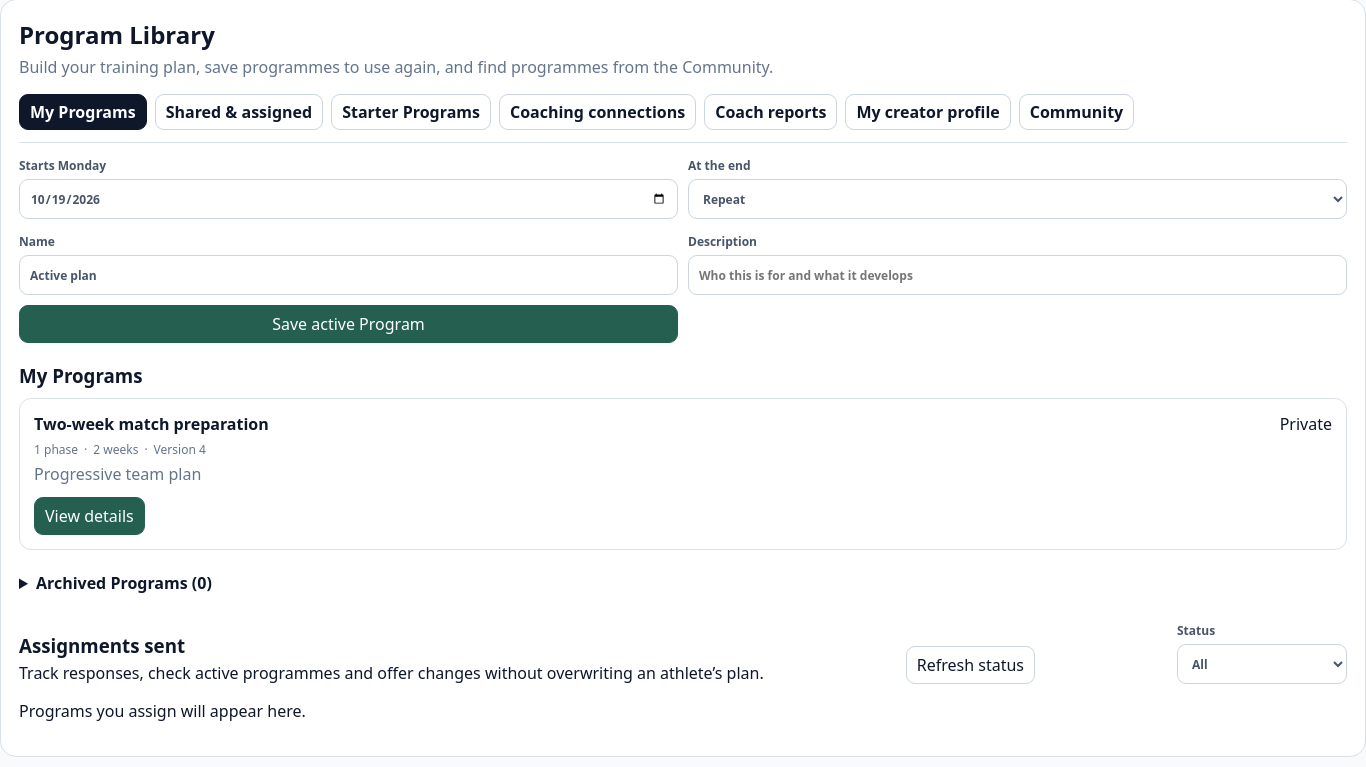
Test: direct client assignments › assigns a frozen programme to a consented client without a team
Expected: the heading "Two-week match preparation" is shown, [34, 413, 269, 435]
Click the button "View details". click: (89, 516)
box: [34, 497, 145, 535]
(page scrolled)
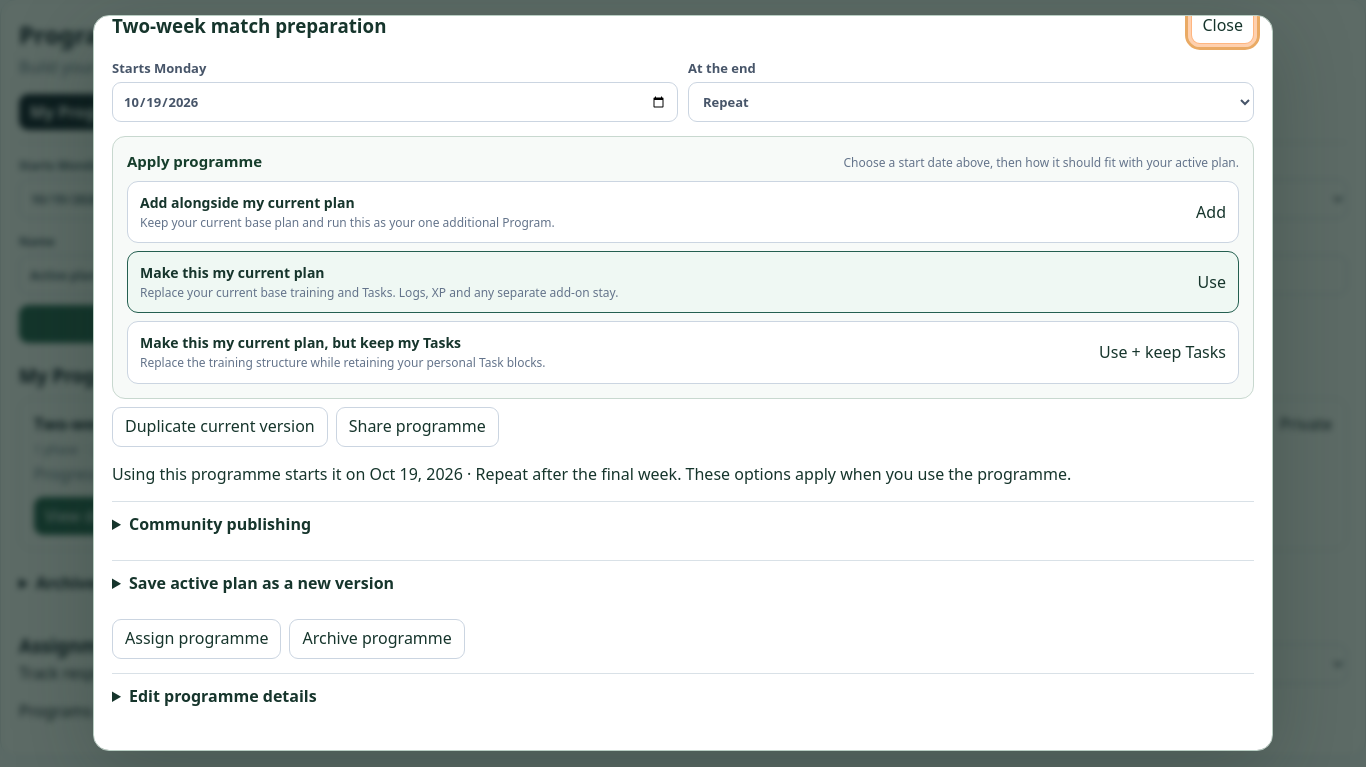
Click the button "Assign programme". click: (197, 639)
box: [112, 619, 281, 659]
(page scrolled)
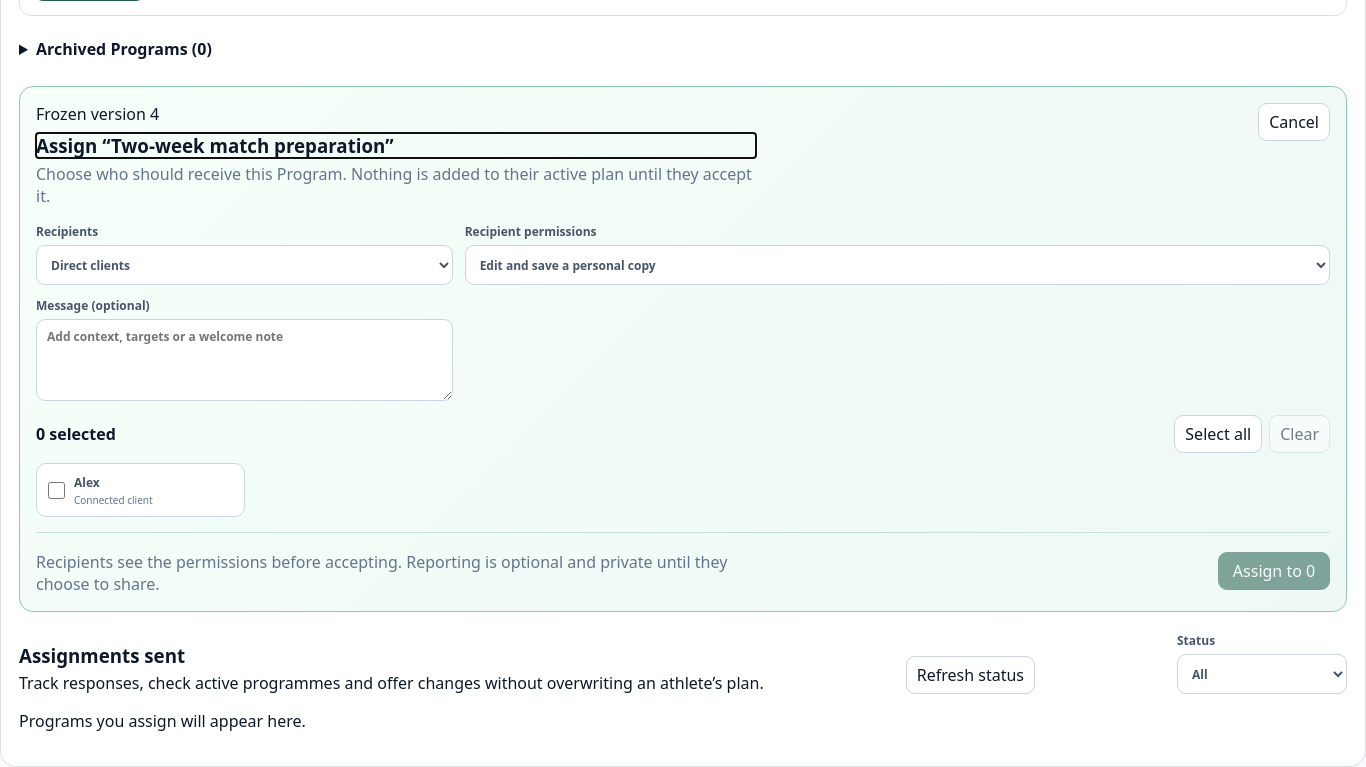
Click the checkbox labelled "Alex Connected client". click: (56, 490)
box: [48, 482, 65, 498]
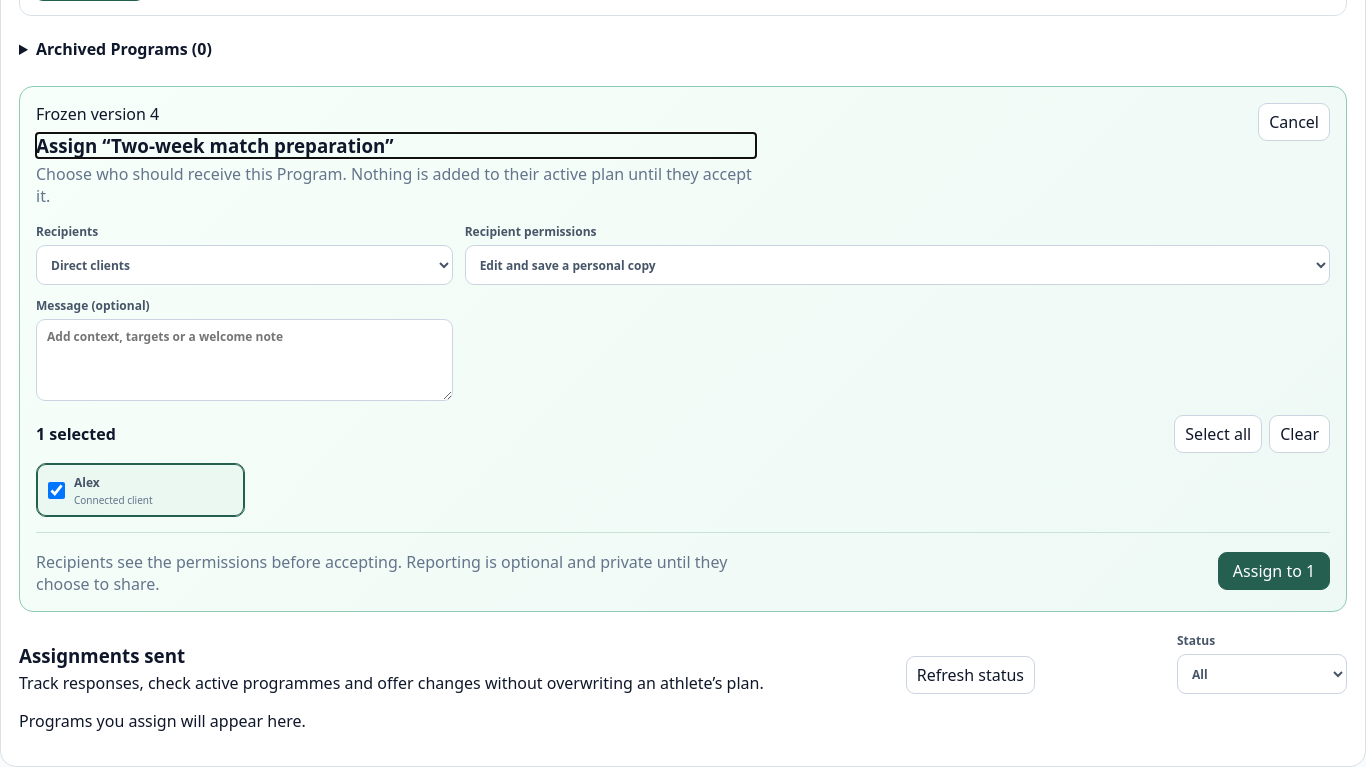
Select "Follow as supplied" in the dropdown labelled "Recipient permissions". click: (897, 265)
box: [465, 245, 1330, 285]
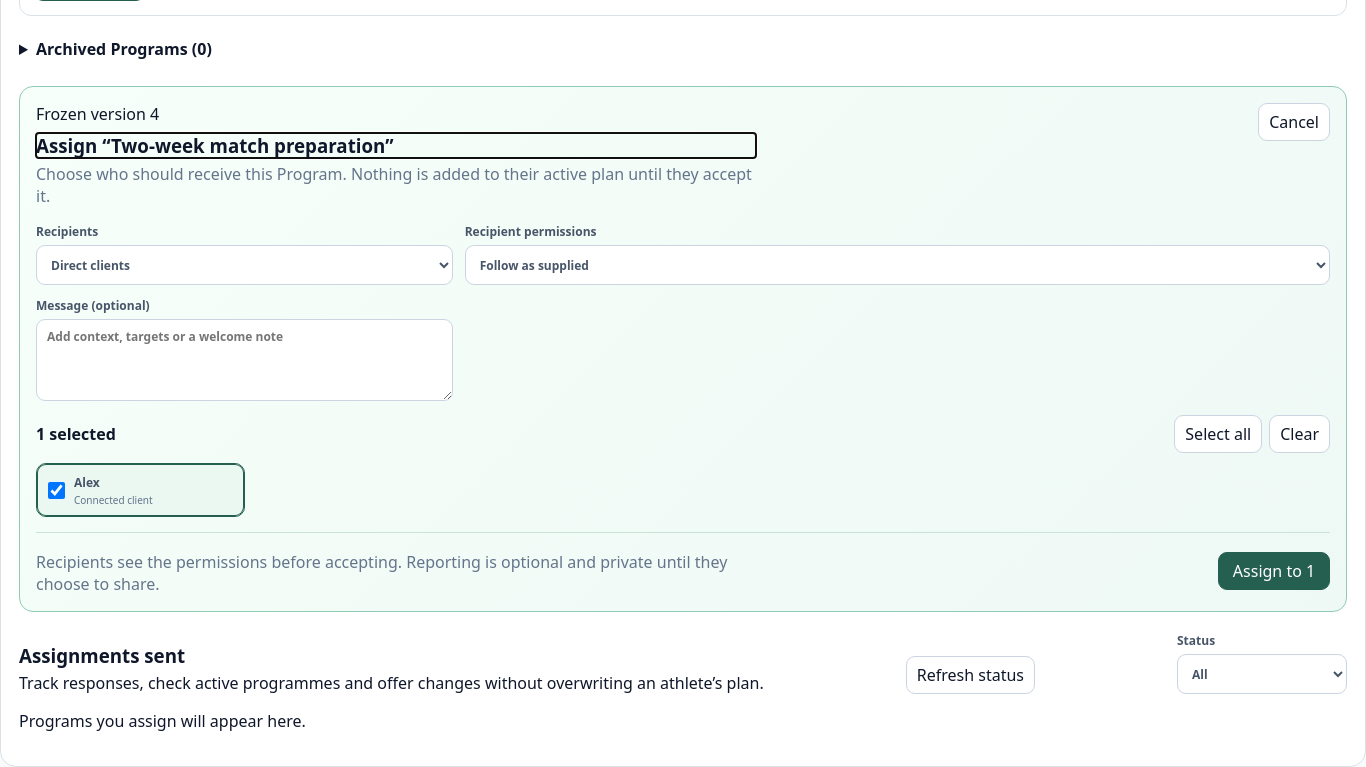
Click the button "Assign to 1". click: (1274, 570)
box: [1218, 552, 1330, 590]
(page scrolled)
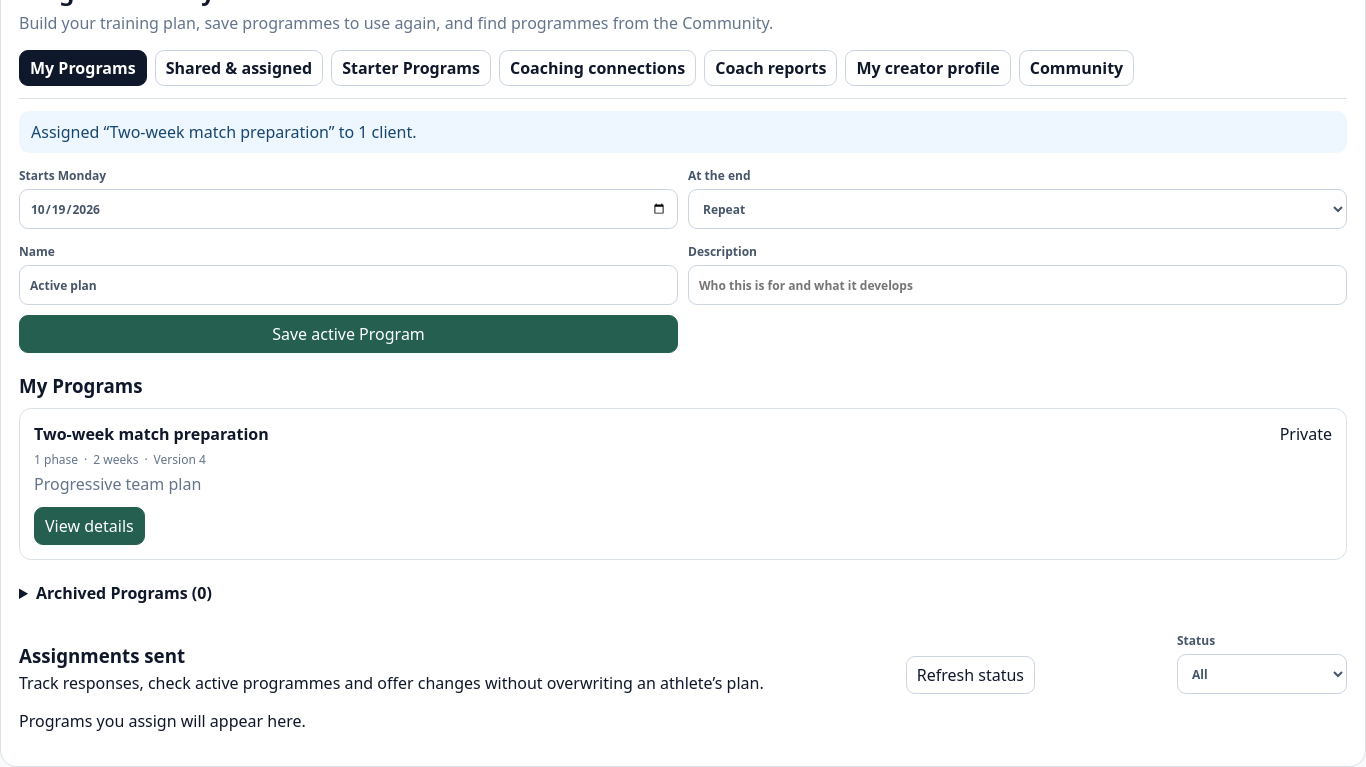
Result: the text "Assigned “Two-week match preparation” to 1 client." is shown at [19, 111, 1347, 153]
